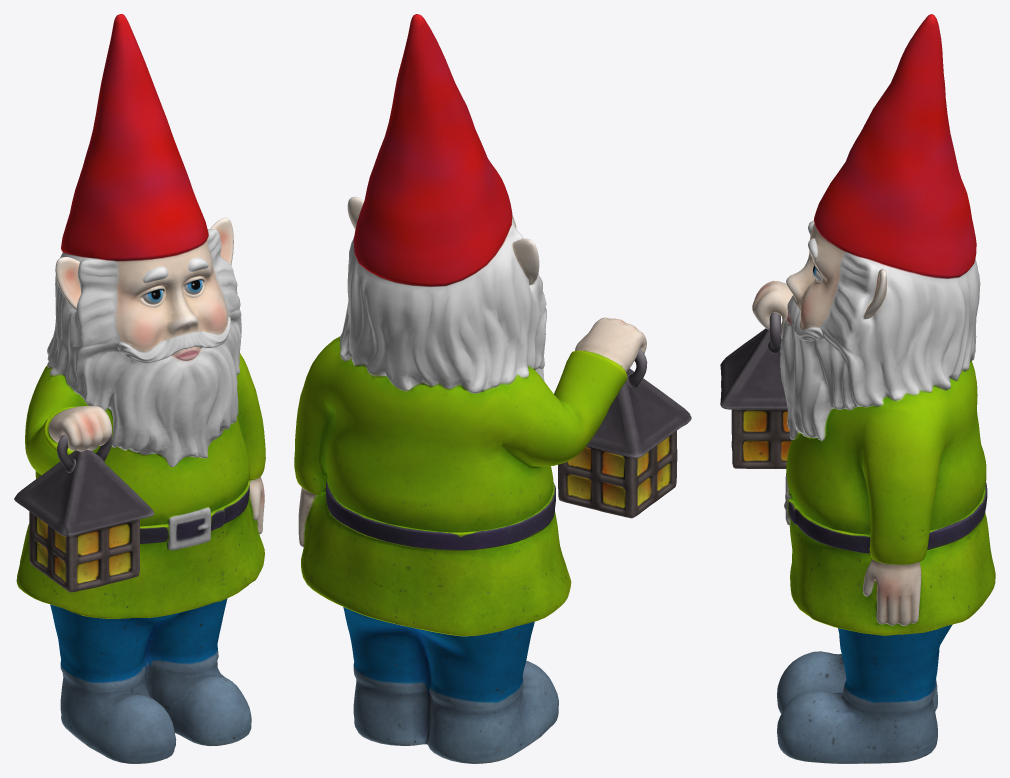
File: garden_gnome_4k.obj
3 views of the same model, side by side, from view 1: azimuth 30°, elevation 25°; view 2: azimuth 150°, elevation 25°; view 3: azimuth 270°, elevation 25° (orthographic). The views are drawn at different scales.
Visible parts, largest first — view 1: garden_gnome; view 2: garden_gnome; view 3: garden_gnome.
Part boxes in pixels (x1,y1,x2,y2): garden_gnome: (14, 14, 265, 763); garden_gnome: (294, 14, 691, 763); garden_gnome: (720, 14, 995, 763).
Bounding box in the file's own units: 0.2579 × 0.5991 × 0.2097.
Materials: 1 (1 with a texture image).
